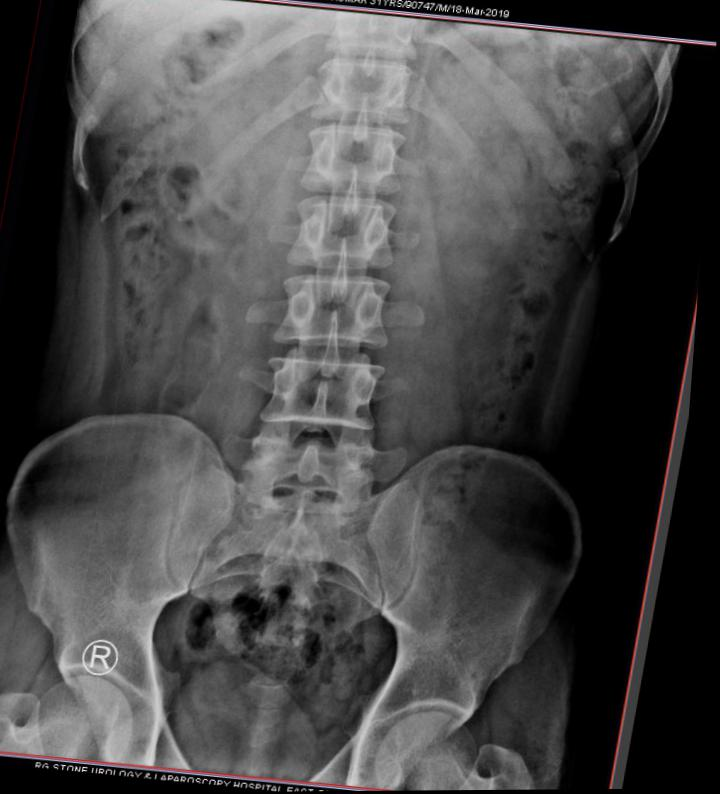vertebrae: (298, 121, 413, 200)
